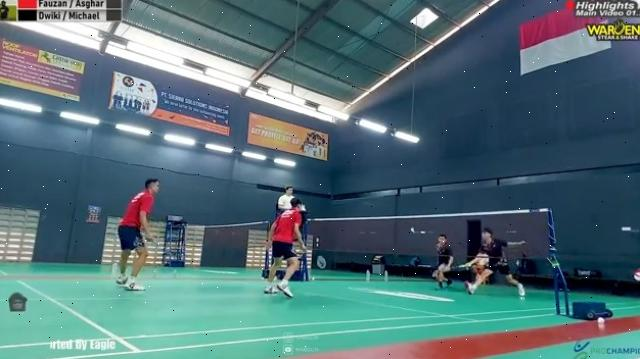Shuttlecock: (409, 228, 417, 234)
